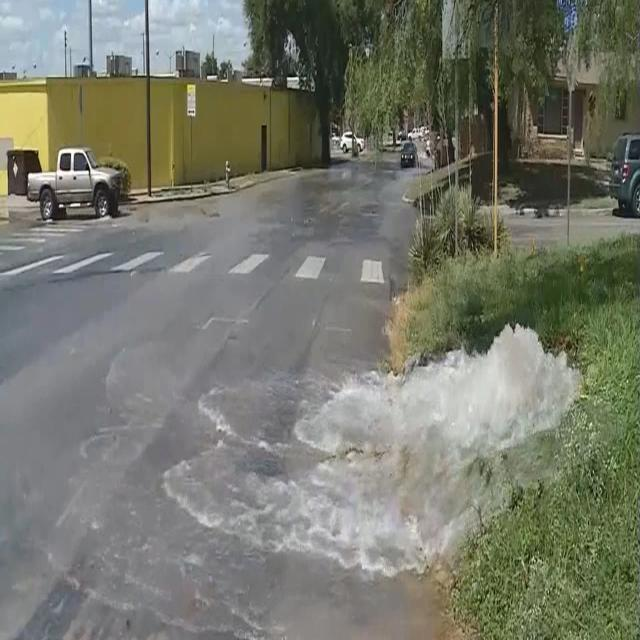water_leak: (36, 323, 574, 512)
